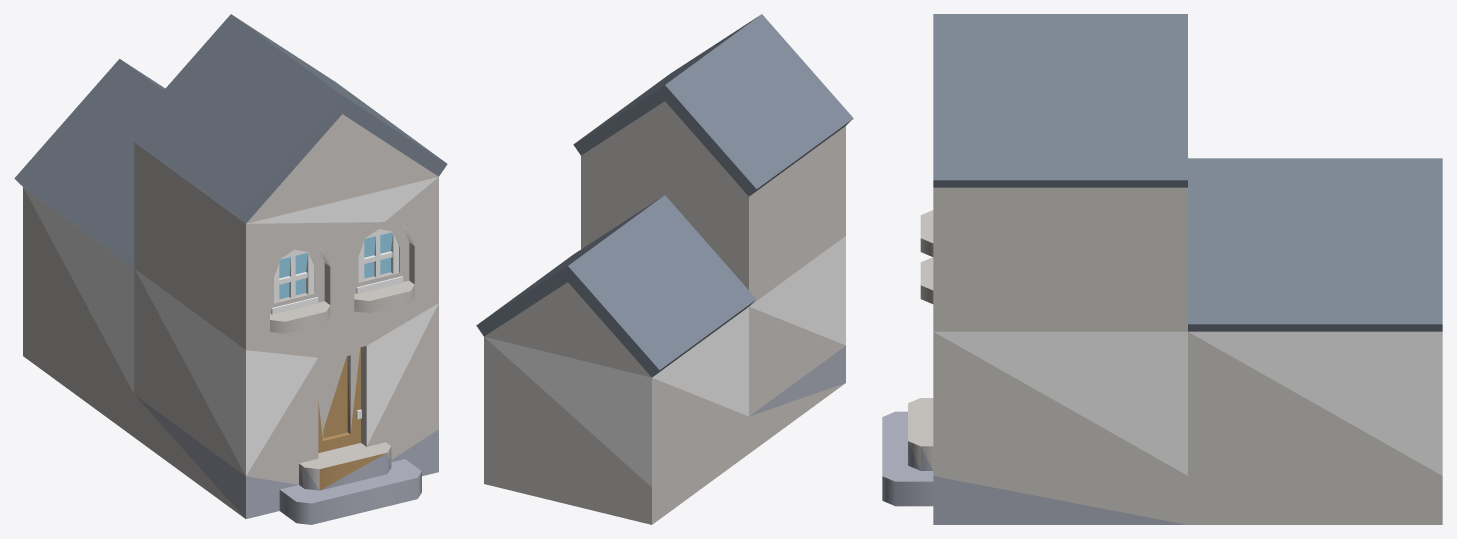
The model's file is v7-hus-tvavaning-kenney-modular.glb.
The picture shows the model from 3 angles, left to right: view 1: azimuth 30°, elevation 25°; view 2: azimuth 150°, elevation 25°; view 3: azimuth 270°, elevation 25°; orthographic projection. The views are drawn at different scales.
Visible parts, largest first — view 1: House, Window_1, Window_2; view 2: House; view 3: House.
Part boxes in pixels (left/top/right/bottom): House: left=14, top=14, right=447, bottom=524; Window_1: left=271, top=249, right=318, bottom=314; Window_2: left=356, top=229, right=403, bottom=293; House: left=476, top=14, right=853, bottom=524; House: left=882, top=14, right=1442, bottom=524.
Size of the model in its own units: 1.09 by 1.98 by 2.2.
